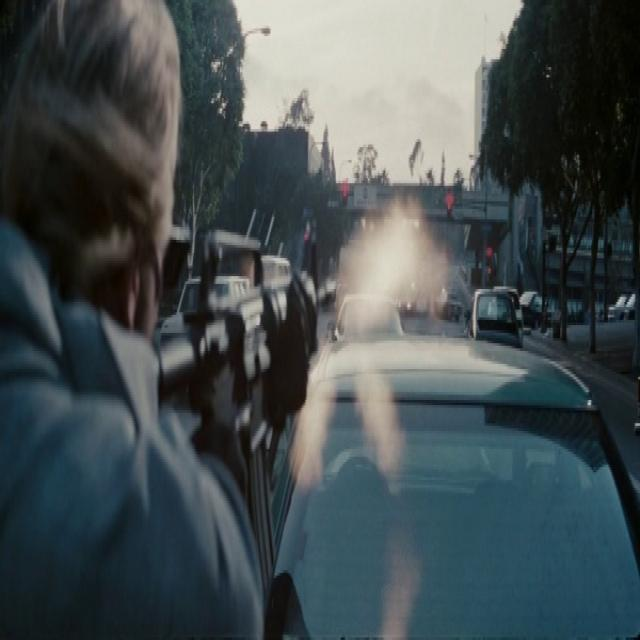rifle: (155, 225, 340, 592)
